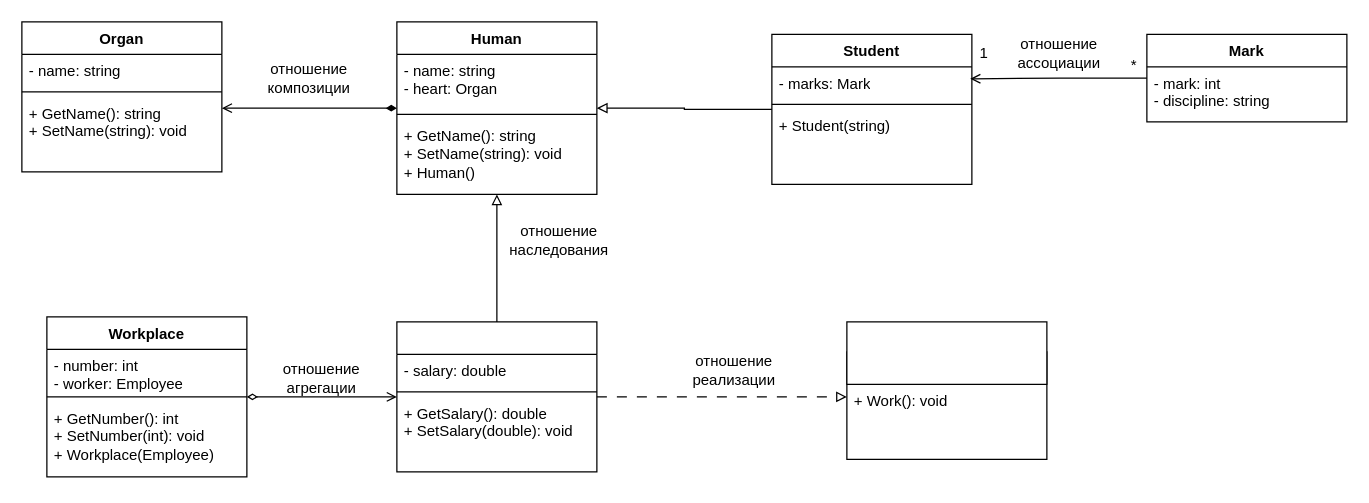
The diagram is 1369 pixels wide and 503 high, and some of its shapes have lost their labels. Each missing label, with the box of its shape:
Employee: (396, 321, 597, 472)
«interface» IWork: (846, 321, 1047, 384)
